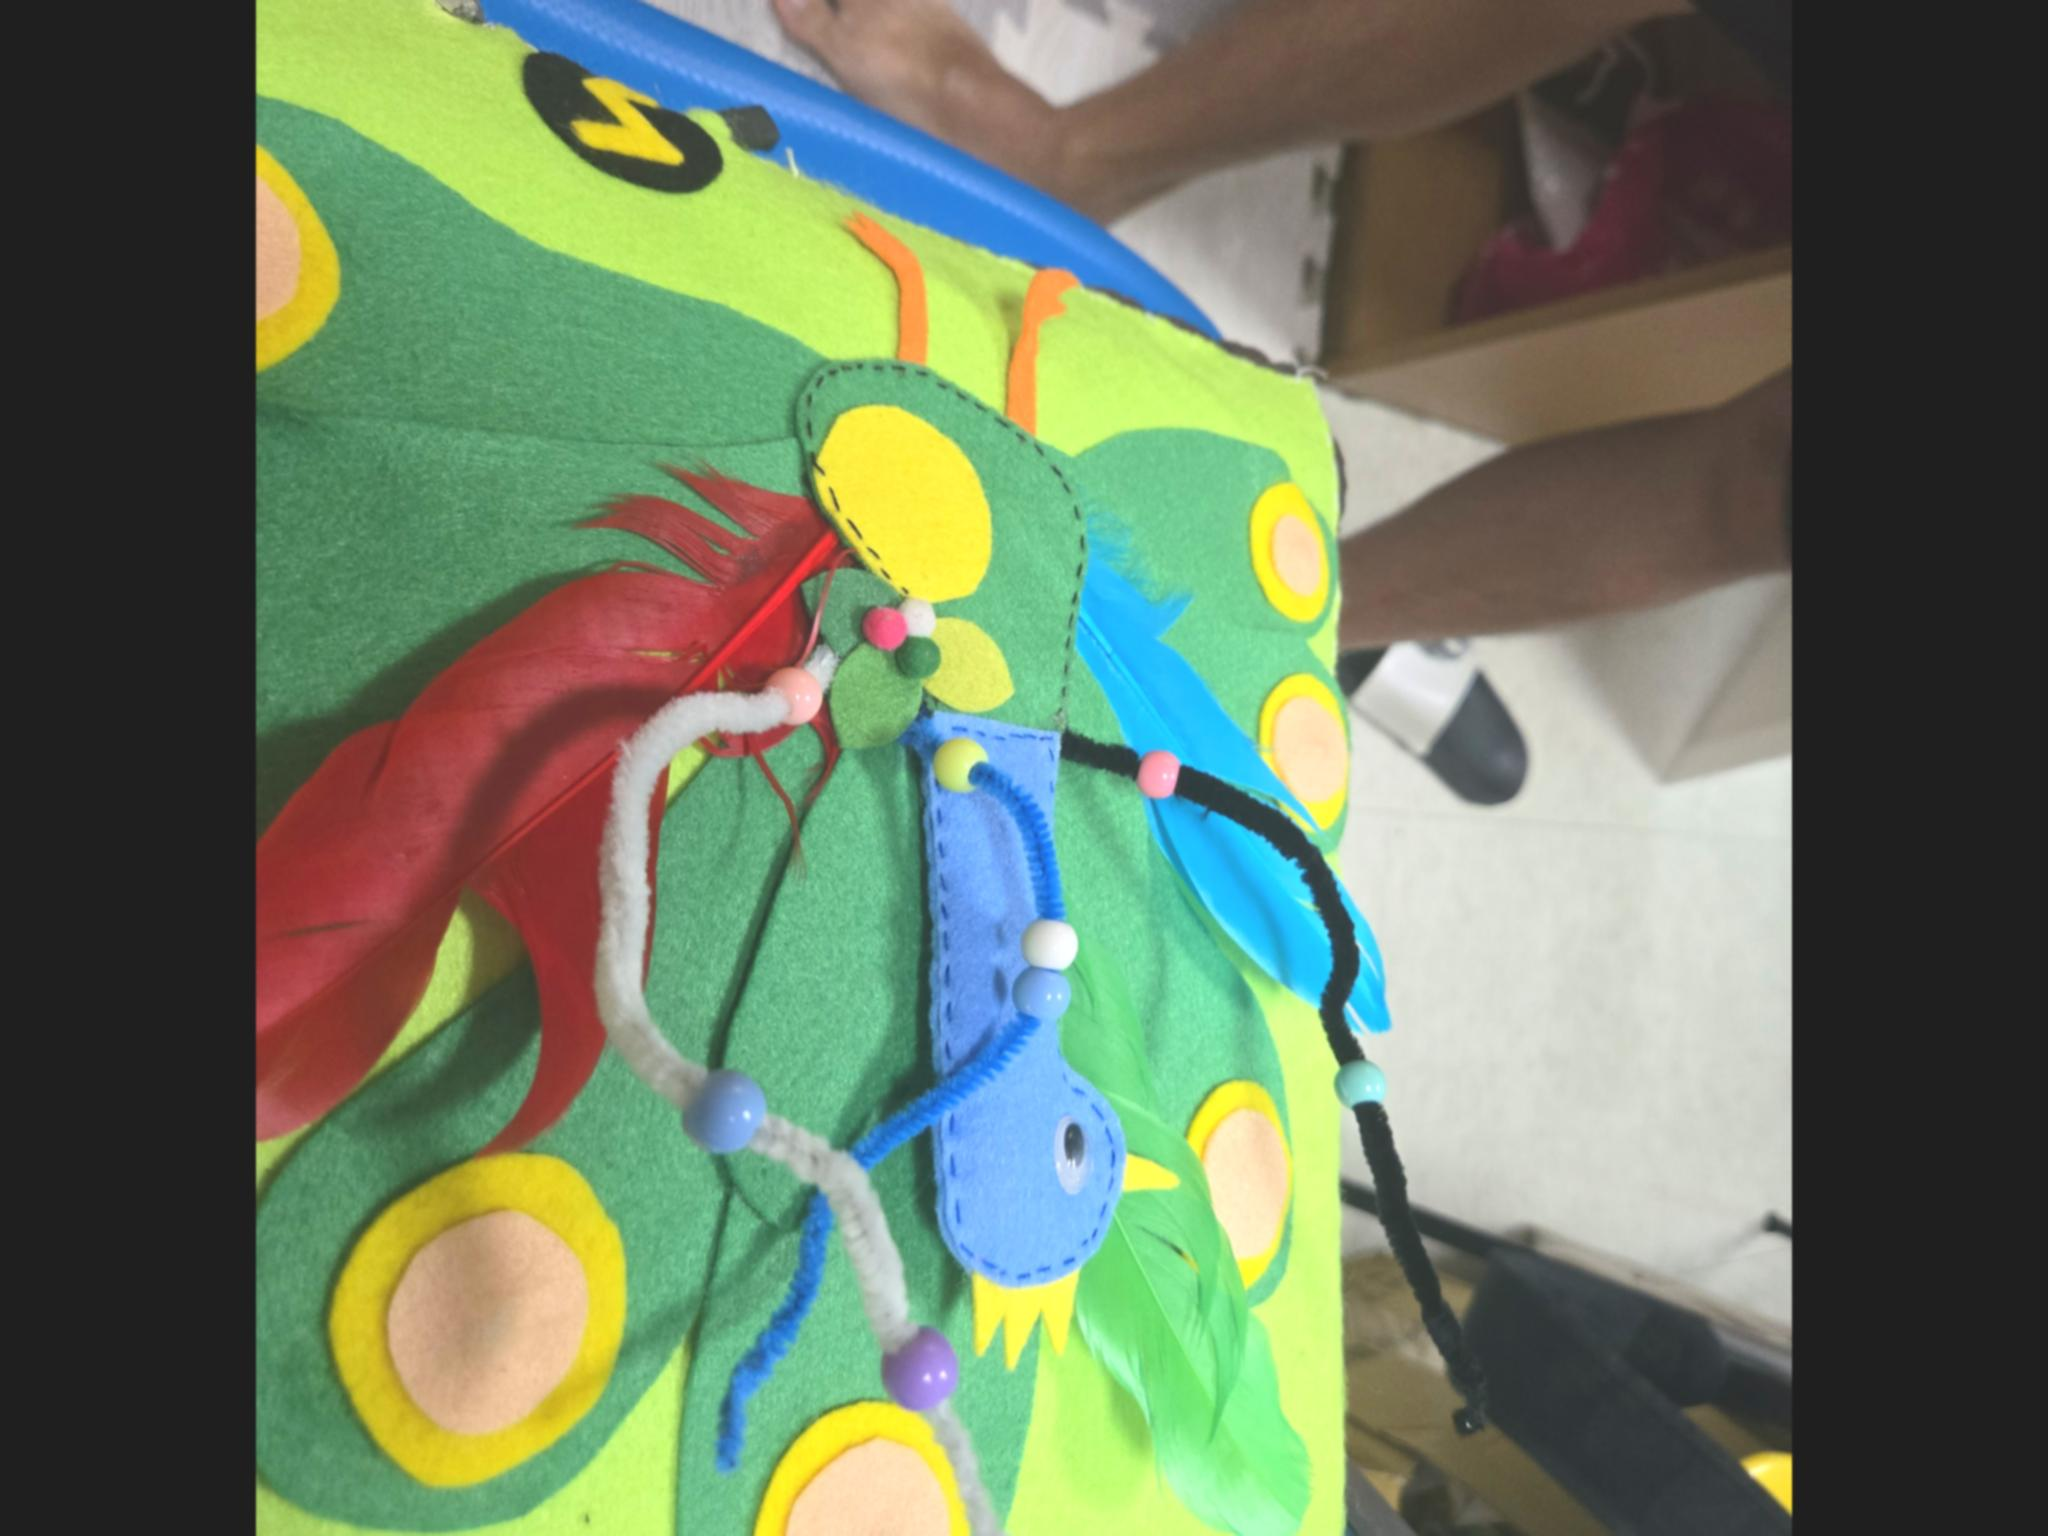bead: (684, 1068, 772, 1158), (869, 1326, 956, 1409), (763, 655, 827, 736), (1319, 1052, 1390, 1113), (921, 737, 993, 797), (1024, 904, 1092, 963), (1130, 744, 1190, 803), (1005, 971, 1069, 1021)
